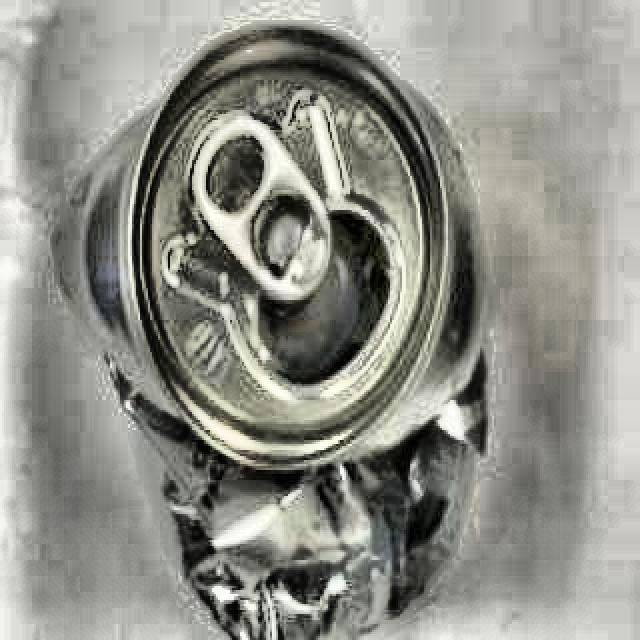metal: (50, 16, 498, 640)
